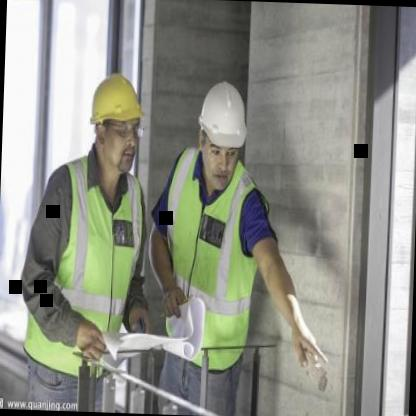helmet: (190, 70, 255, 196), (83, 64, 148, 182)
